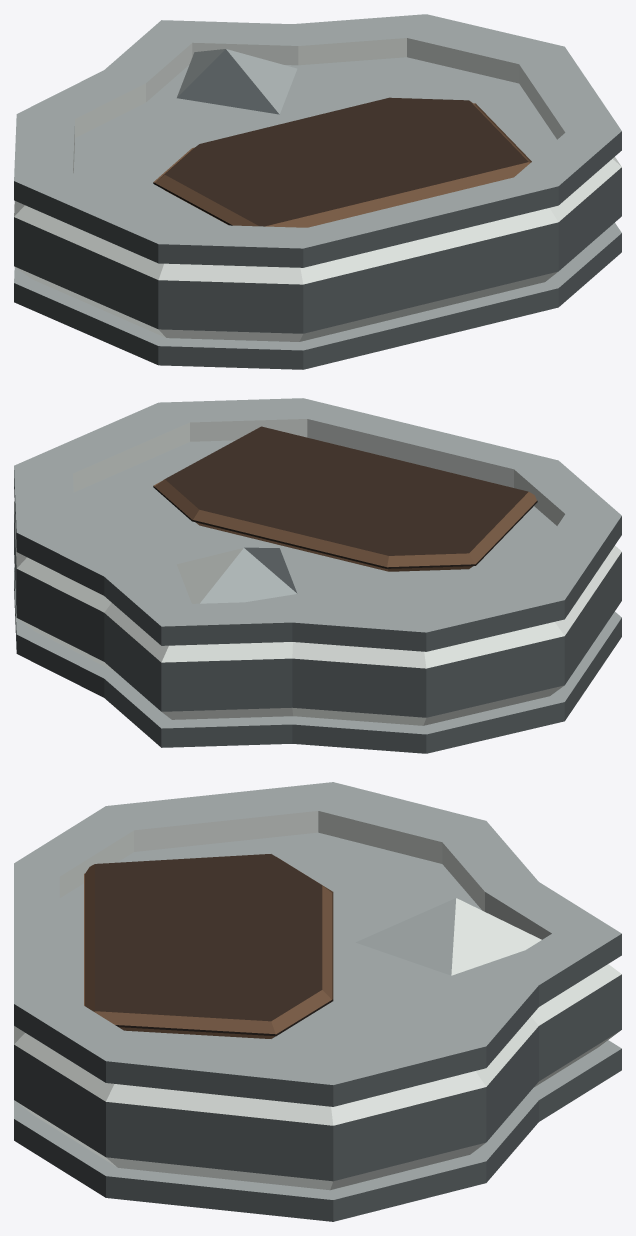
Rendered from stone_shield.fbx.
The picture shows the model from 3 angles, top to bottom: view 1: azimuth 30°, elevation 25°; view 2: azimuth 150°, elevation 25°; view 3: azimuth 270°, elevation 25°; orthographic projection. The views are drawn at different scales.
Parts seen in each view (by area): view 1: stone_shield; view 2: stone_shield; view 3: stone_shield.
Boxes of the visible parts, x1,y1,x2,y2 form: stone_shield: [14, 14, 621, 369]; stone_shield: [14, 398, 621, 753]; stone_shield: [14, 782, 621, 1221].
Bounding box in the file's own units: 1.64 × 0.5 × 1.39.
1 material, 1 textured.
